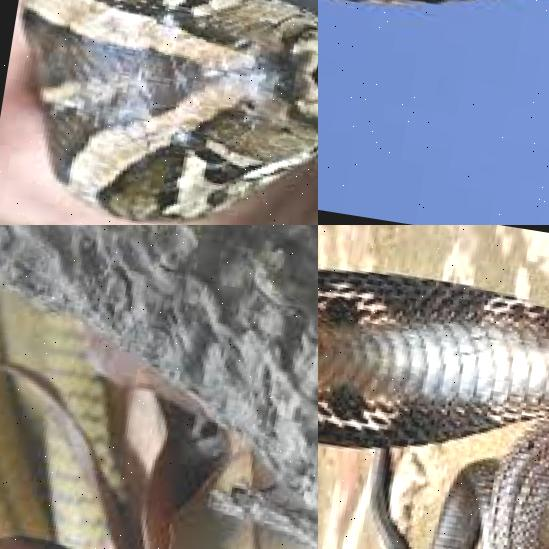snake: (0, 0, 318, 225), (318, 249, 549, 549), (0, 225, 189, 549), (318, 0, 549, 64)
